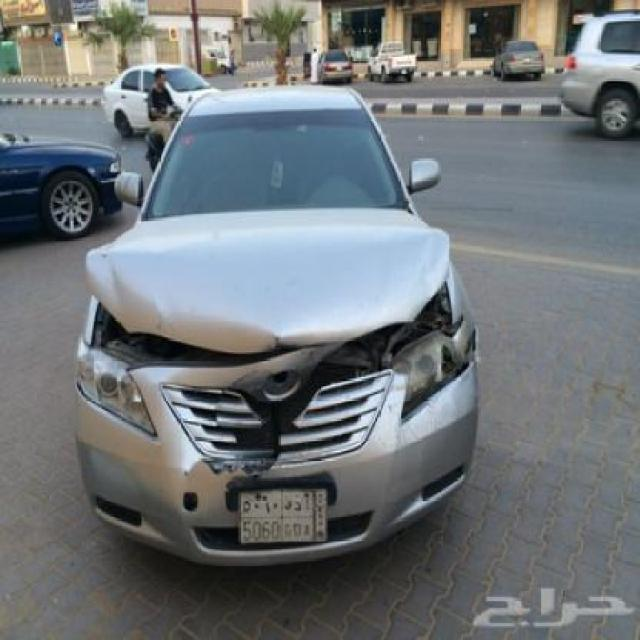license_plate: (236, 488, 329, 546)
